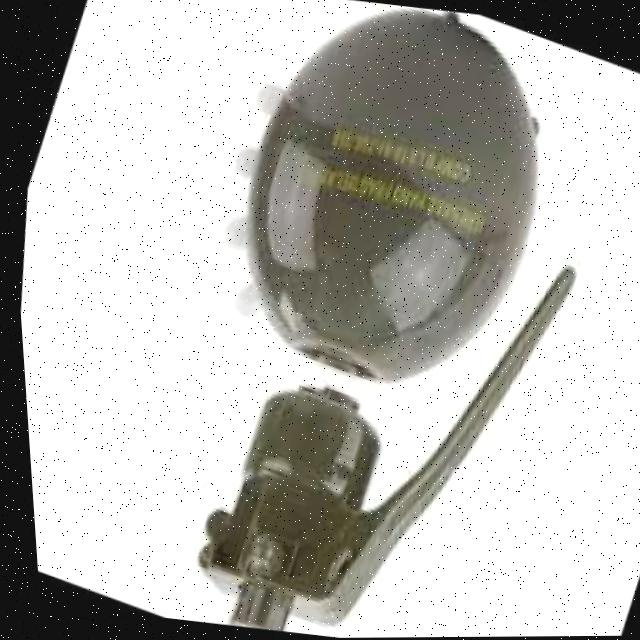grenade: (56, 0, 640, 640)
